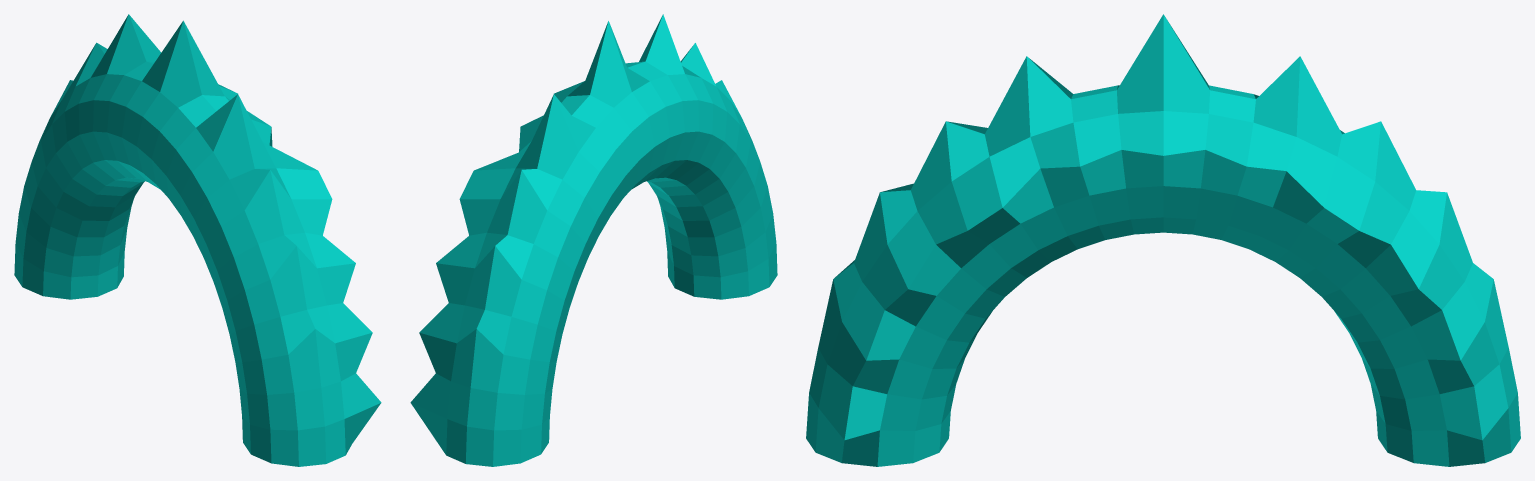
Rendered from Enterance.fbx.
3 renders of one model, left to right at view 1: azimuth 30°, elevation 25°; view 2: azimuth 150°, elevation 25°; view 3: azimuth 270°, elevation 25°, orthographic. The views are drawn at different scales.
Visible parts, largest first — view 1: Torus; view 2: Torus; view 3: Torus.
Part boxes in pixels (x1,y1,x2,y2): Torus: (14, 14, 381, 466); Torus: (410, 14, 777, 466); Torus: (806, 14, 1520, 466).
Bounding box in the file's own units: 0.6789 × 1.87 × 2.86.
